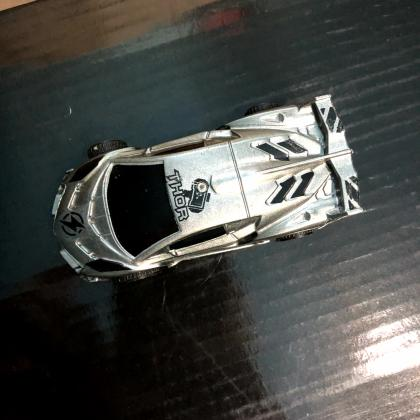Car: (51, 94, 362, 282)
